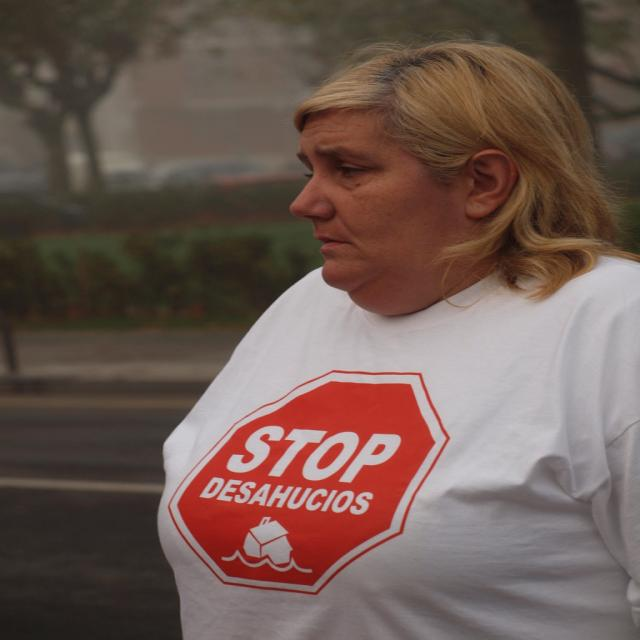Stop-sign: (169, 368, 452, 597)
